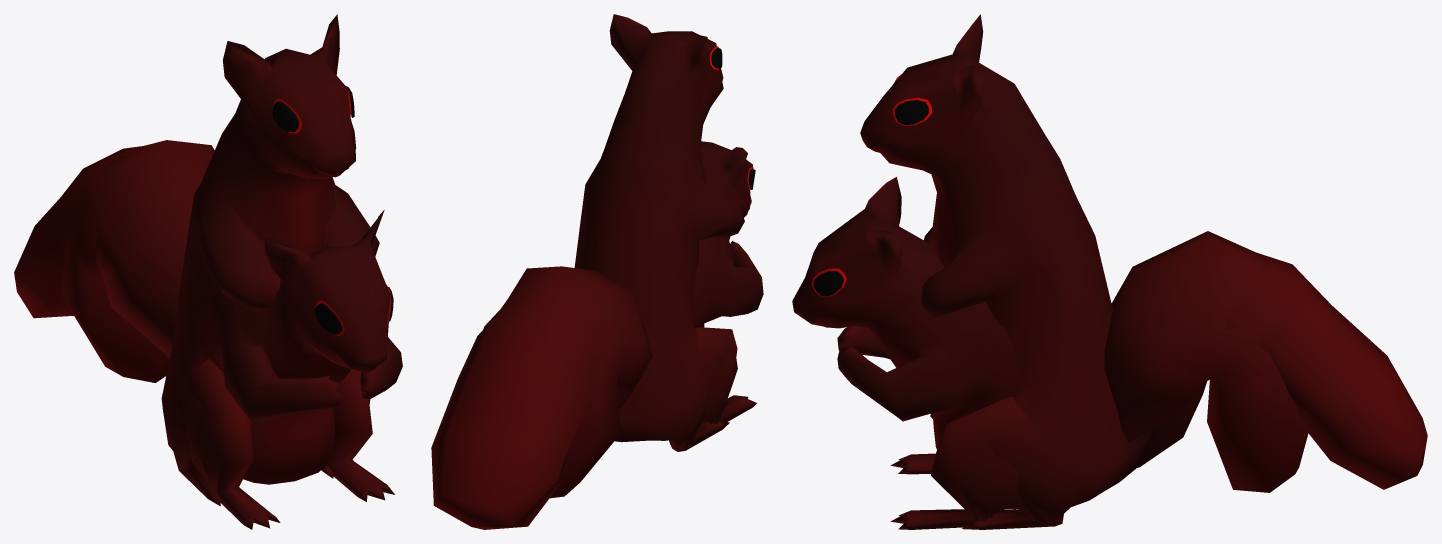
File: Animals_BlackSquirrel.fbx
3 views of the same model, side by side, from view 1: azimuth 30°, elevation 25°; view 2: azimuth 150°, elevation 25°; view 3: azimuth 270°, elevation 25° (orthographic). The views are drawn at different scales.
Parts seen in each view (by area): view 1: alt591, alt590; view 2: alt590, alt591; view 3: alt590, alt591.
Boxes of the visible parts, bbox=[...] form: alt591: bbox=[60, 140, 402, 529]; alt590: bbox=[14, 14, 379, 506]; alt590: bbox=[431, 14, 744, 529]; alt591: bbox=[483, 141, 763, 498]; alt590: bbox=[860, 14, 1427, 529]; alt591: bbox=[792, 177, 1308, 529].
Bounding box in the file's own units: 10.45 × 27.86 × 35.34.
